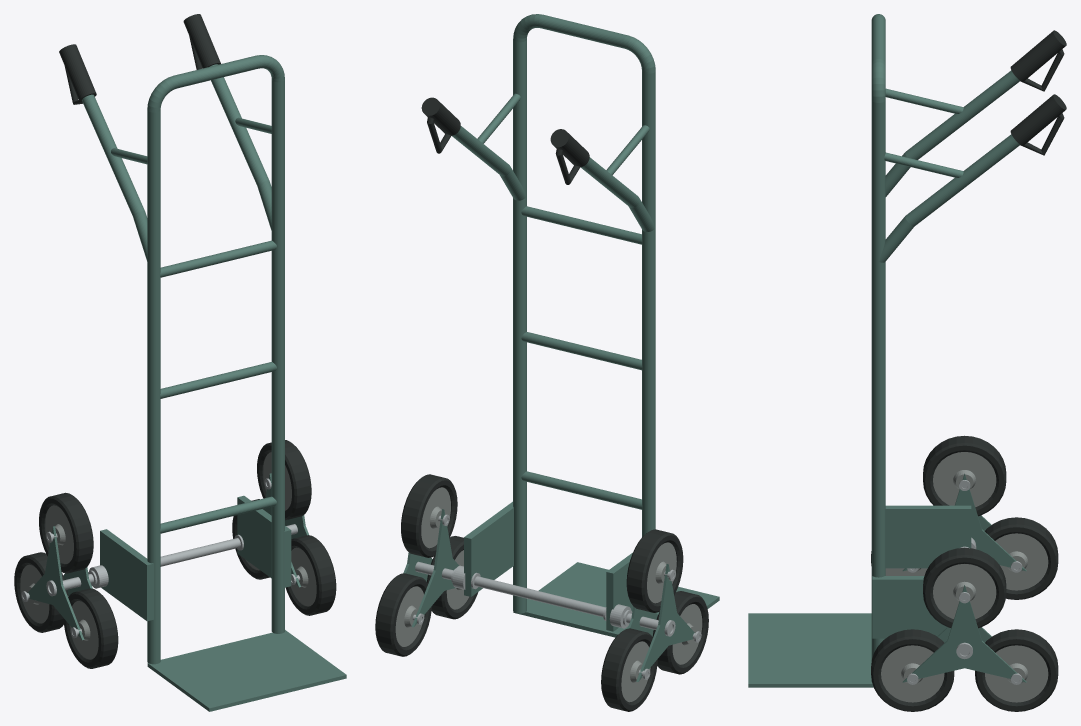
The picture shows the model from 3 angles, left to right: view 1: azimuth 30°, elevation 25°; view 2: azimuth 150°, elevation 25°; view 3: azimuth 270°, elevation 25°; orthographic projection. The views are drawn at different scales.
Visible parts, largest first — view 1: Main_load_frame_tube, Toe_plate_both_faces, Axle_bracket_web_-1, Axle_bracket_web_1, Tyre_-1_0, Tyre_-1_1, Handle_support_-1, Tyre_1_1, Handle_support_1, Tyre_1_0, Carrier_-1_outer, Tyre_-1_2 (+10 smaller); view 2: Main_load_frame_tube, Toe_plate_both_faces, Axle_bracket_web_1, Tyre_1_2, Tyre_-1_0, Tyre_1_0, Tyre_-1_2, Common_transverse_axle, Carrier_-1_outer, Carrier_1_inner, Tyre_-1_1, Handle_support_1 (+13 smaller); view 3: Toe_plate_both_faces, Main_load_frame_tube, Axle_bracket_web_-1, Axle_bracket_web_1, Carrier_1_outer, Tyre_1_0, Handle_support_1, Hub_-1_0, Hub_1_0, Tyre_1_1, Tyre_1_2, Tyre_-1_0 (+10 smaller).
Part boxes in pixels (x1,y1,x2,y2): Main_load_frame_tube: [147, 55, 284, 664]; Toe_plate_both_faces: [147, 630, 346, 711]; Axle_bracket_web_-1: [100, 529, 153, 621]; Axle_bracket_web_1: [237, 495, 291, 587]; Tyre_-1_0: [39, 492, 93, 573]; Tyre_-1_1: [63, 588, 118, 668]; Handle_support_-1: [82, 94, 147, 261]; Tyre_1_1: [286, 535, 336, 615]; Handle_support_1: [209, 64, 272, 231]; Tyre_1_0: [257, 440, 311, 520]; Carrier_-1_outer: [28, 526, 84, 640]; Tyre_-1_2: [14, 552, 68, 632]; Main_load_frame_tube: [513, 14, 655, 636]; Toe_plate_both_faces: [513, 562, 719, 637]; Axle_bracket_web_1: [464, 501, 513, 596]; Tyre_1_2: [375, 573, 431, 656]; Tyre_-1_0: [626, 529, 683, 612]; Tyre_1_0: [401, 474, 457, 557]; Tyre_-1_2: [601, 628, 657, 711]; Common_transverse_axle: [415, 561, 672, 632]; Carrier_-1_outer: [636, 564, 694, 681]; Carrier_1_inner: [412, 509, 459, 627]; Tyre_-1_1: [652, 591, 708, 674]; Handle_support_1: [452, 126, 525, 200]; Toe_plate_both_faces: [748, 613, 873, 687]; Main_load_frame_tube: [871, 14, 885, 659]; Axle_bracket_web_-1: [885, 505, 971, 568]; Axle_bracket_web_1: [872, 576, 946, 638]; Carrier_1_outer: [902, 585, 1026, 682]; Tyre_1_0: [923, 547, 1006, 628]; Handle_support_1: [879, 134, 1019, 262]; Hub_-1_0: [933, 452, 996, 506]; Hub_1_0: [933, 564, 996, 618]; Tyre_1_1: [871, 629, 954, 711]; Tyre_1_2: [975, 629, 1058, 711]; Tyre_-1_0: [923, 435, 1006, 516].
Size of the model in its own units: 0.59 by 1.3 by 0.6106.
